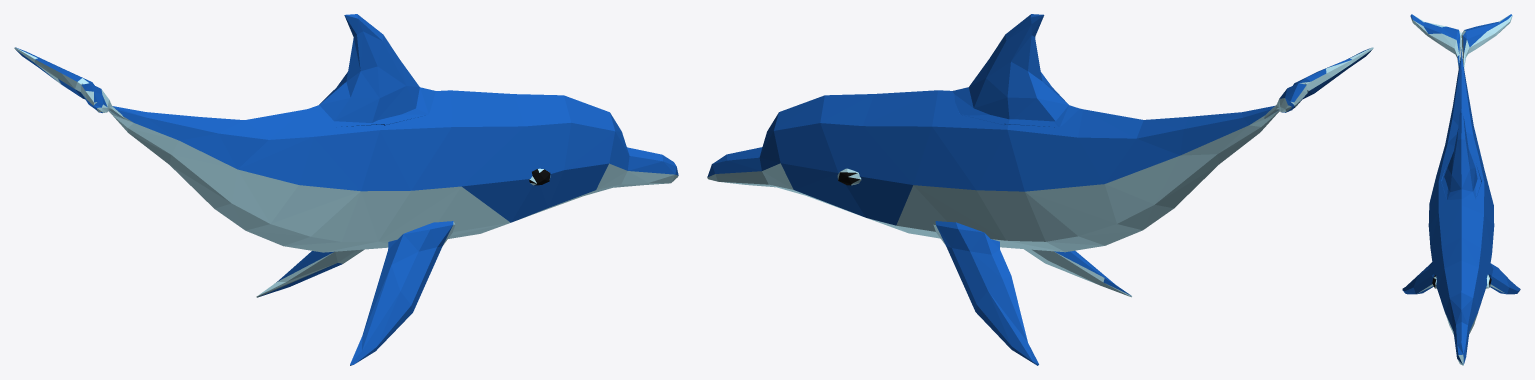
3 renders of one model, left to right at view 1: azimuth 30°, elevation 25°; view 2: azimuth 150°, elevation 25°; view 3: azimuth 270°, elevation 25°, orthographic. The views are drawn at different scales.
Visible parts, largest first — view 1: dolphin; view 2: dolphin; view 3: dolphin.
Boxes of the visible parts, x1,y1,x2,y2 form: dolphin: (14, 14, 678, 365); dolphin: (707, 14, 1373, 365); dolphin: (1402, 14, 1520, 365).
Size of the model in its own units: 1456 by 704 by 378.
